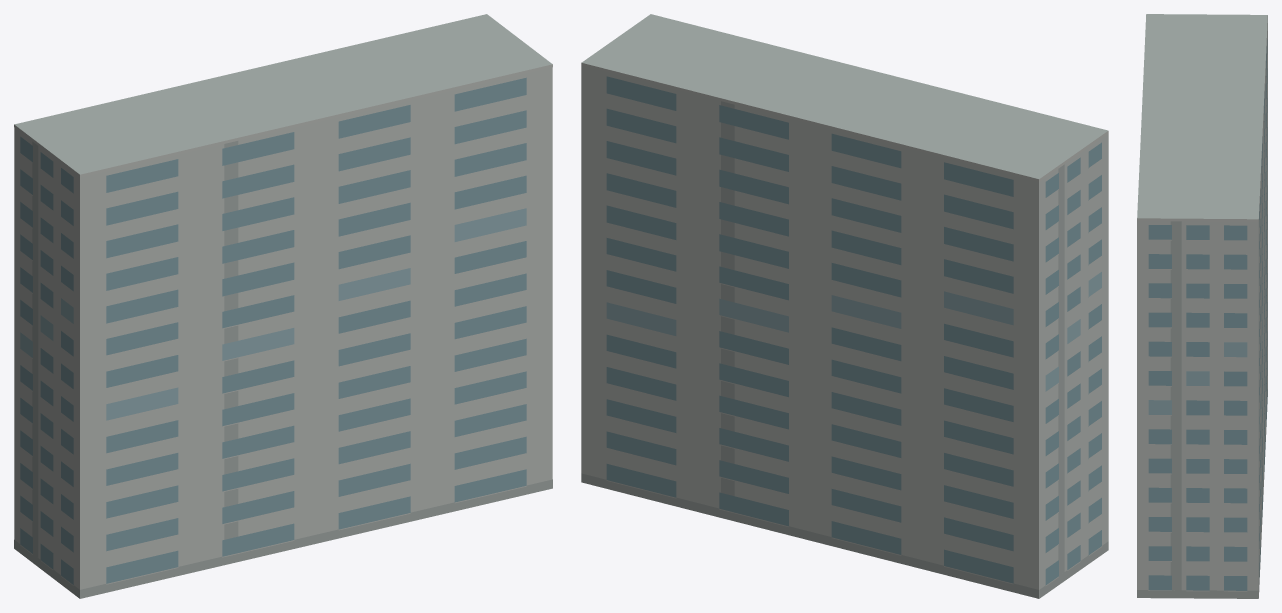
The model's file is residential-35bee1eb-6791-4748-8e86-30da62937602.glb.
3 renders of one model, left to right at view 1: azimuth 30°, elevation 25°; view 2: azimuth 150°, elevation 25°; view 3: azimuth 270°, elevation 25°, orthographic. The views are drawn at different scales.
Visible parts, largest first — view 1: residential-35bee1eb-6791-4748-8e86-30da62937602.tmp; view 2: residential-35bee1eb-6791-4748-8e86-30da62937602.tmp; view 3: residential-35bee1eb-6791-4748-8e86-30da62937602.tmp.
Boxes of the visible parts, x1=… form: residential-35bee1eb-6791-4748-8e86-30da62937602.tmp: x1=14, y1=14, x2=552, y2=598; residential-35bee1eb-6791-4748-8e86-30da62937602.tmp: x1=581, y1=14, x2=1108, y2=598; residential-35bee1eb-6791-4748-8e86-30da62937602.tmp: x1=1137, y1=14, x2=1267, y2=598.
Bounding box in the file's own units: 40.58 × 35 × 10.93.
